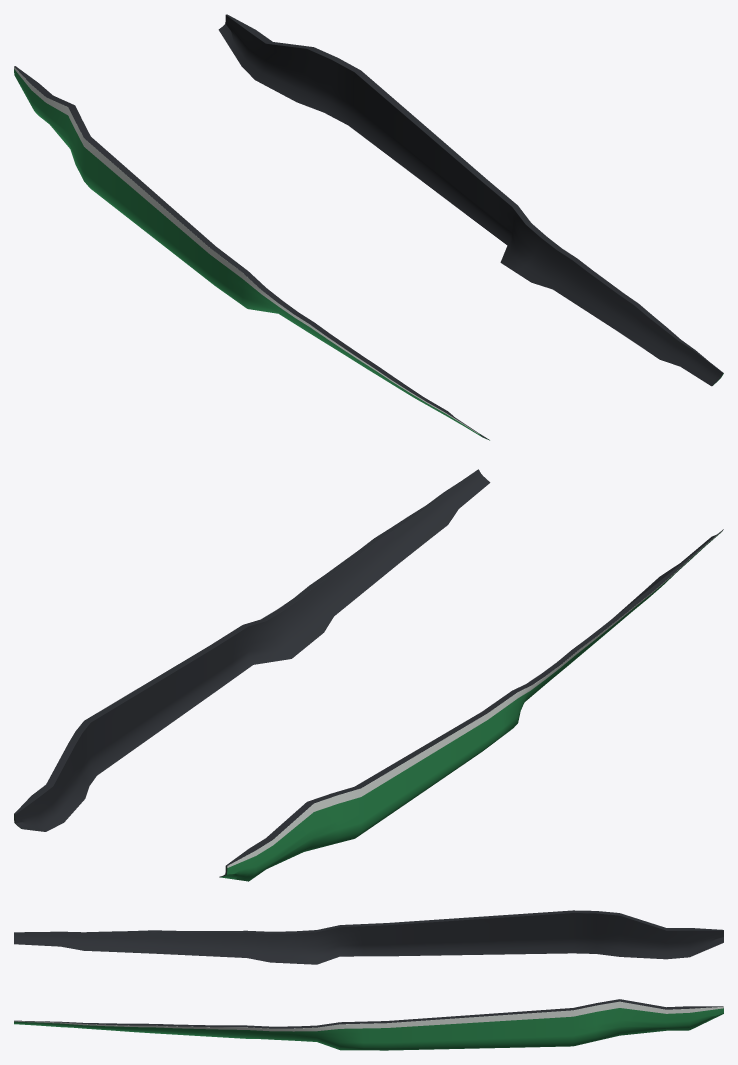
Rendered from wraith_armor_lg.fbx.
3 views of the same model, one above another, from view 1: azimuth 30°, elevation 25°; view 2: azimuth 150°, elevation 25°; view 3: azimuth 270°, elevation 25° (orthographic). The views are drawn at different scales.
Visible parts, largest first — view 1: Armor_Streamliner; view 2: Armor_Streamliner; view 3: Armor_Streamliner.
Part boxes in pixels (x1,y1,x2,y2): Armor_Streamliner: (14, 14, 723, 440); Armor_Streamliner: (14, 469, 723, 881); Armor_Streamliner: (14, 910, 723, 1050).
Bounding box in the file's own units: 177 × 37.03 × 529.
